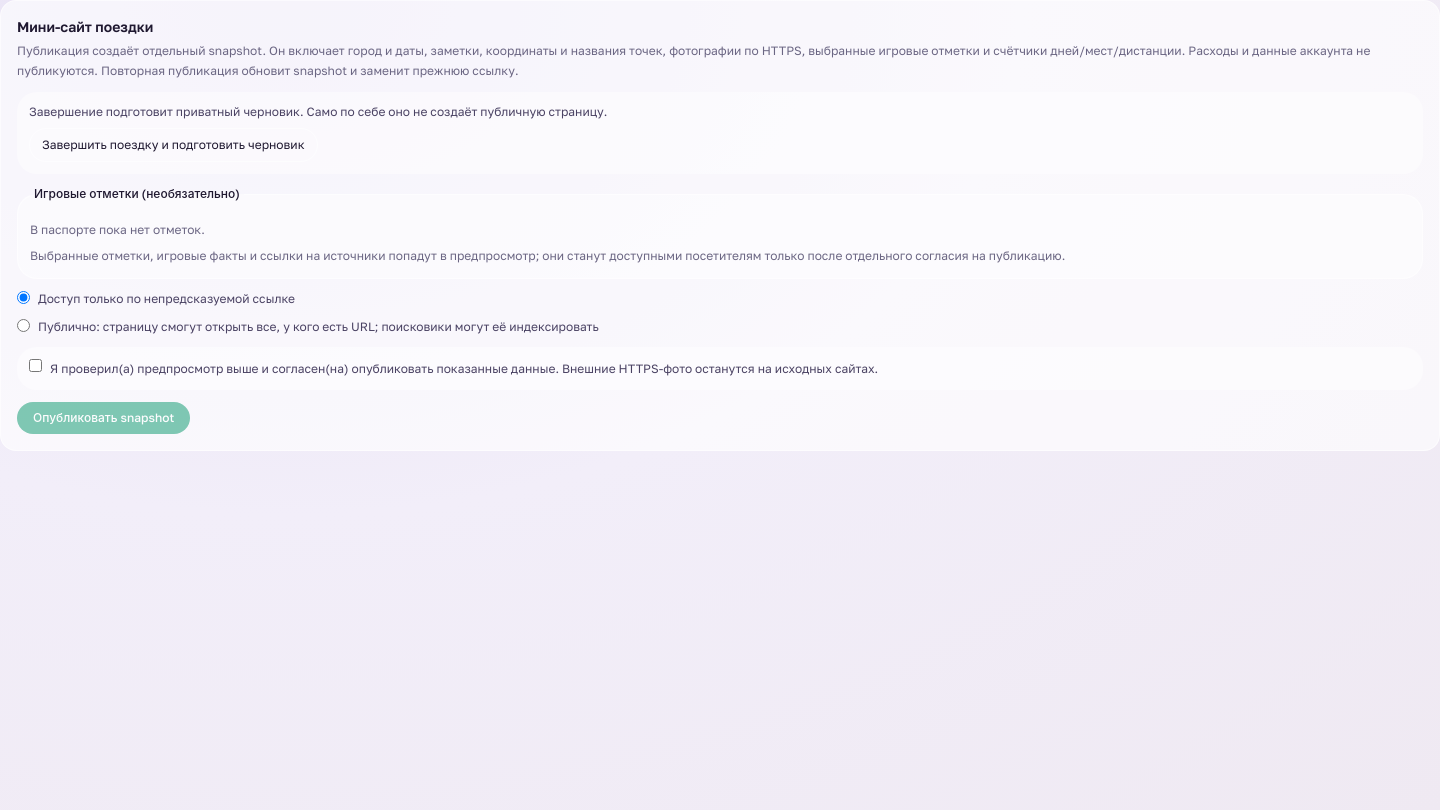
Test: TripMiniSiteControls › creates a private draft on completion without publishing it
Click the button "Завершить поездку и подготовить черновик".
click(173, 145)  # box x1=29 y1=128 x2=318 y2=162
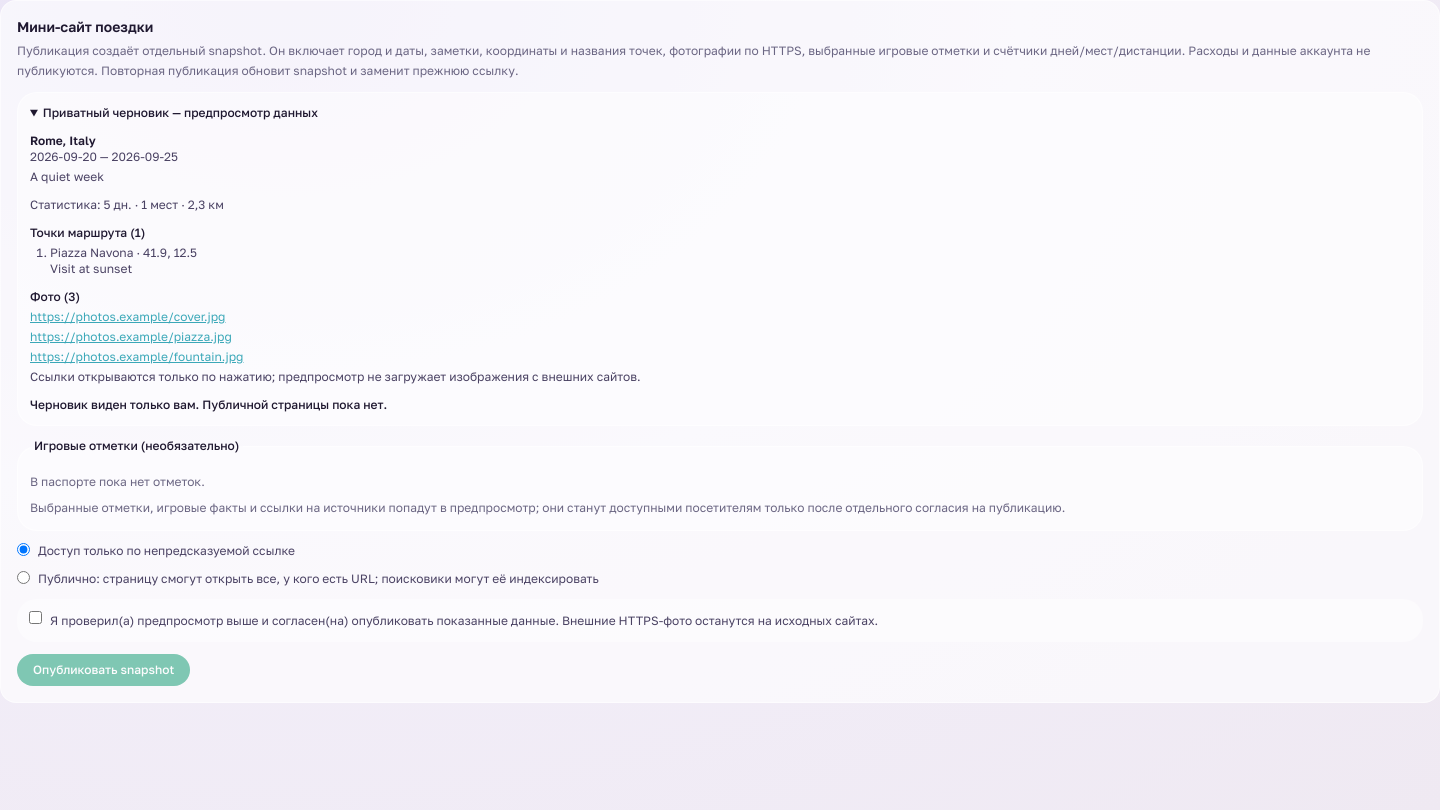
Check: the checkbox is not checked, box x1=29 y1=610 x2=42 y2=624
Check: the text "Черновик виден только вам. Публичной страницы пока нет." is shown, box x1=30 y1=397 x2=387 y2=412
